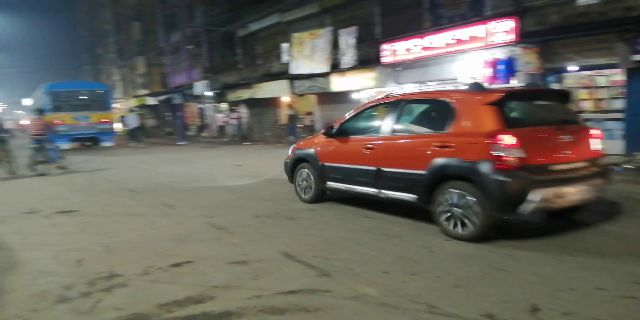Bus: (30, 79, 115, 149)
Car: (283, 83, 610, 241)
